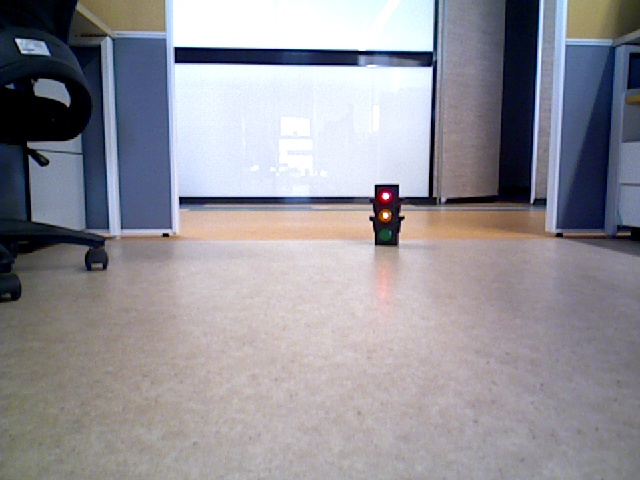red: (376, 188, 396, 242)
